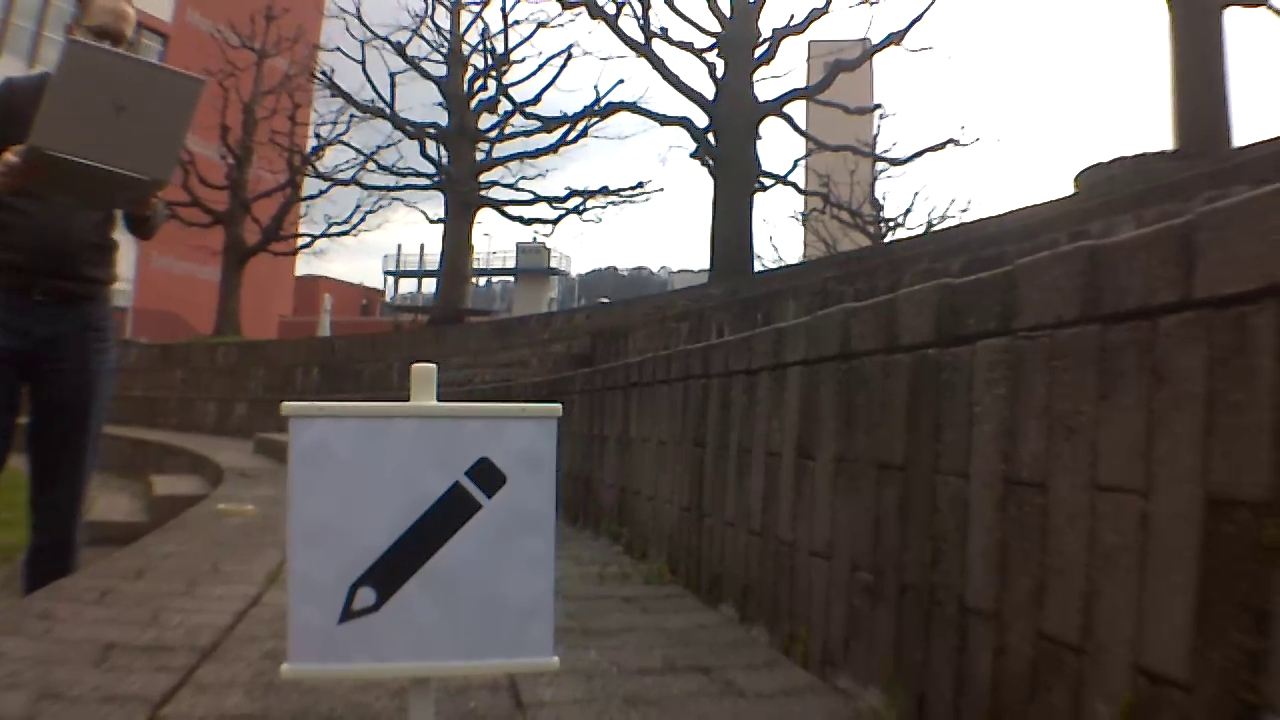pencil: (329, 447, 518, 631)
